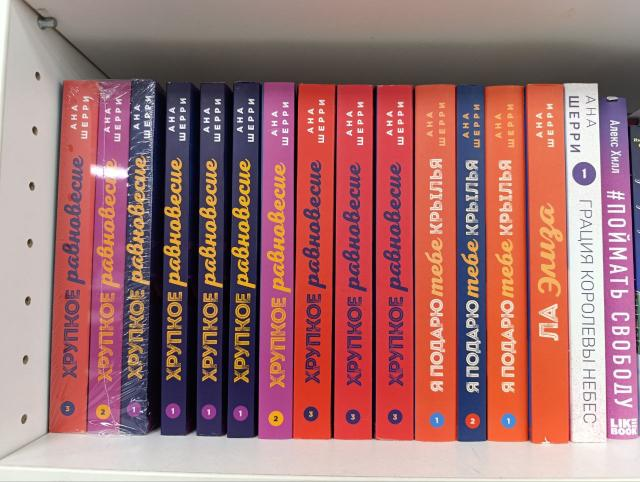book-s-spine: (49, 80, 100, 434), (87, 80, 132, 435), (486, 85, 529, 442), (293, 84, 336, 439), (565, 83, 607, 443), (415, 84, 457, 441), (527, 84, 568, 444), (334, 85, 373, 440), (599, 98, 639, 439), (376, 84, 414, 441), (258, 82, 295, 439), (120, 80, 156, 436), (227, 83, 259, 438), (161, 82, 192, 436), (457, 84, 486, 442), (197, 83, 225, 437)
